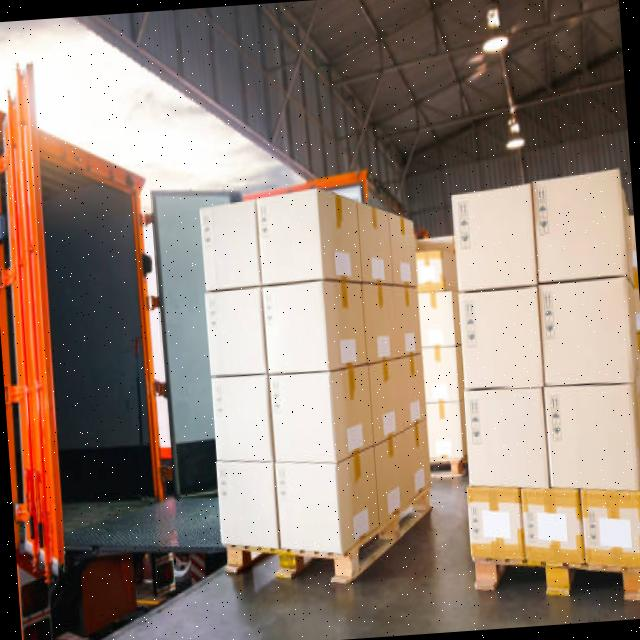Wooden-Pallets: (227, 484, 435, 586), (468, 559, 640, 601)
